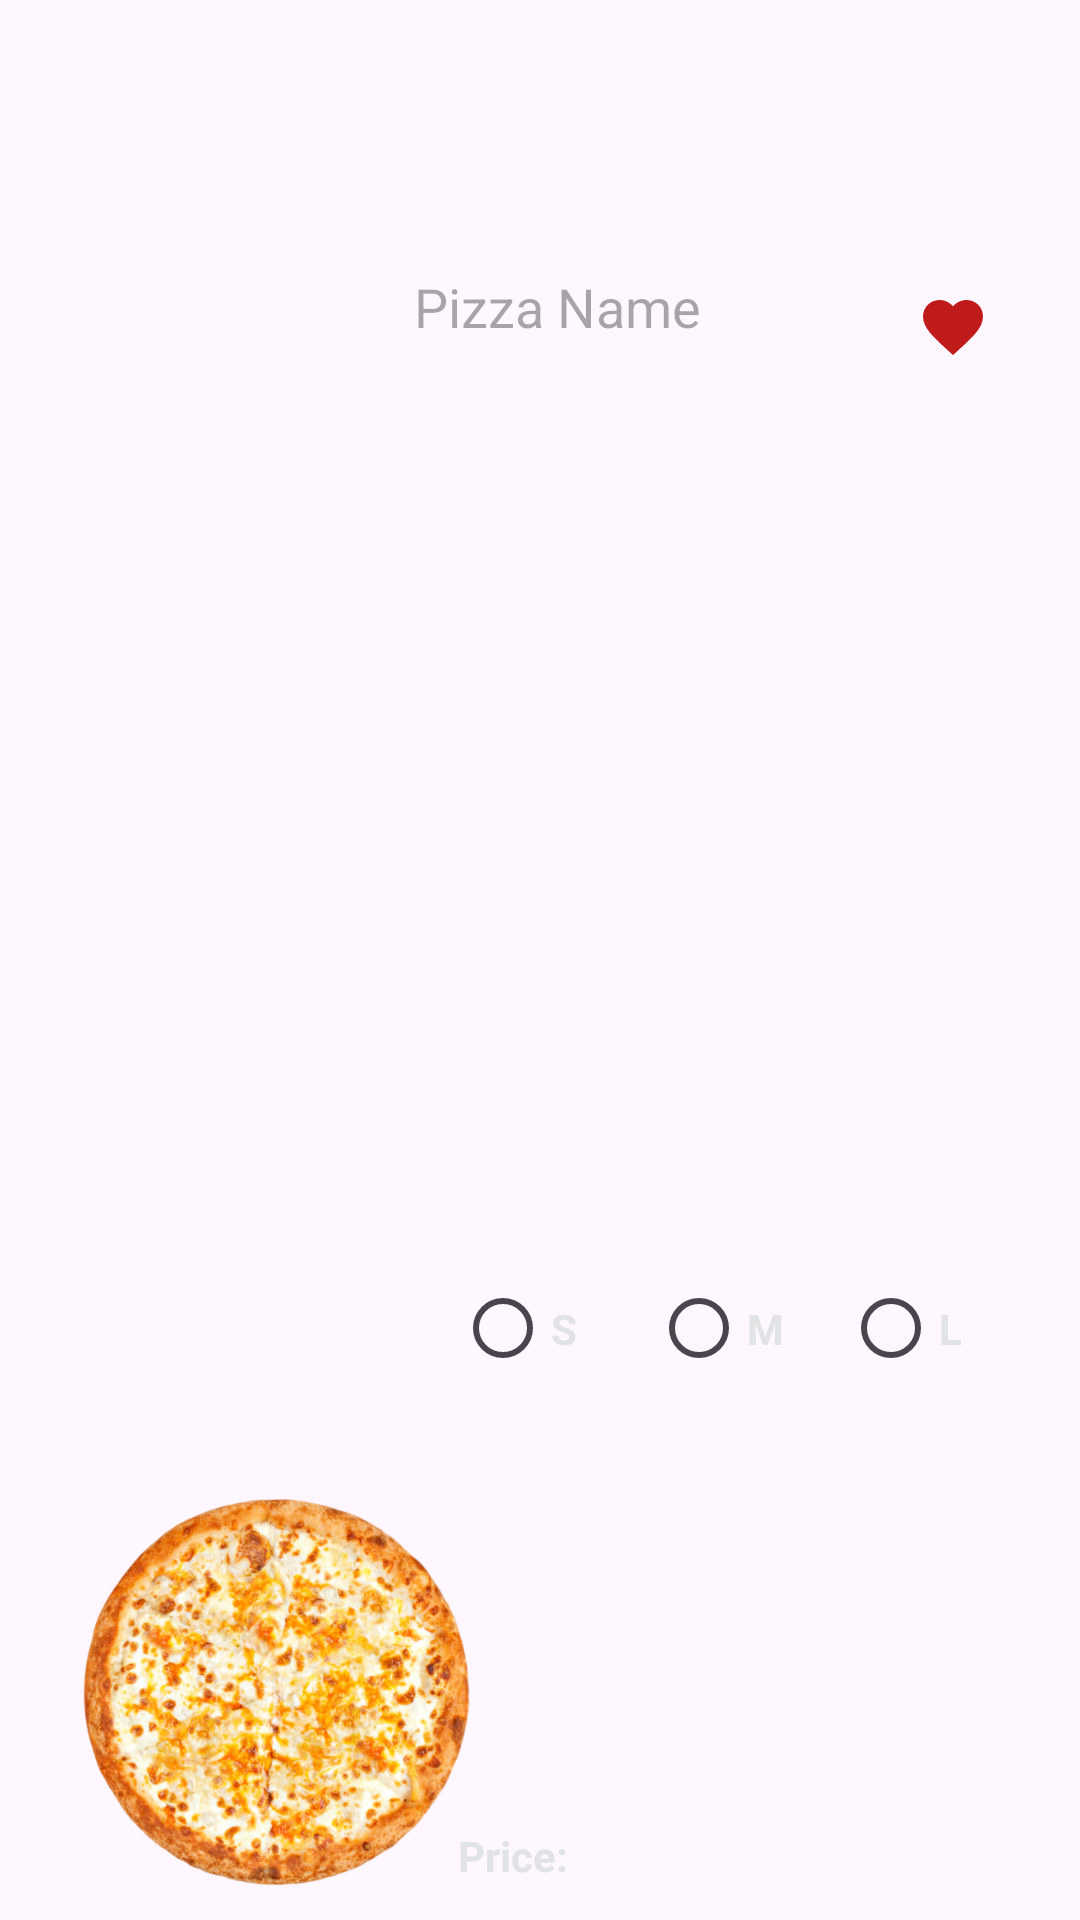

Icons on this 1080*1920 Android screen, each with its box as [x1=x1, y1=y1, x2=x2, y2=y2]:
favorite: [x1=923, y1=300, x2=983, y2=355]
